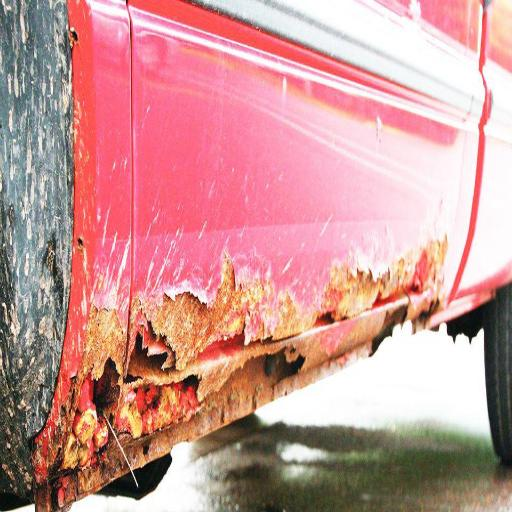segmentation: (0, 139, 472, 512), (106, 272, 421, 473), (55, 439, 133, 510)
